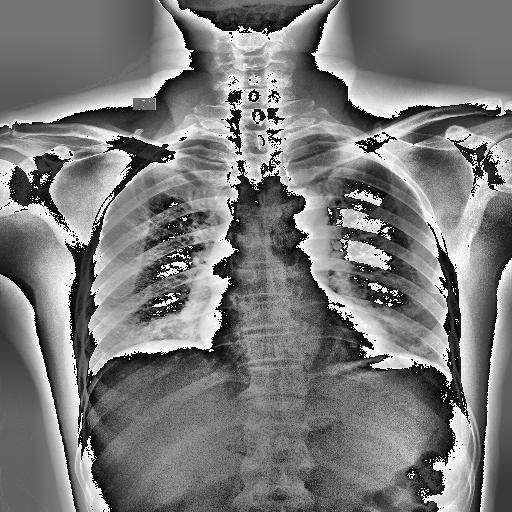0- Aortic enlargement: (261, 186, 329, 254), (272, 190, 328, 246), (266, 188, 328, 228)
11- Pleural thickening: (338, 134, 384, 162)
3- Cardiomegaly: (194, 303, 393, 365)
